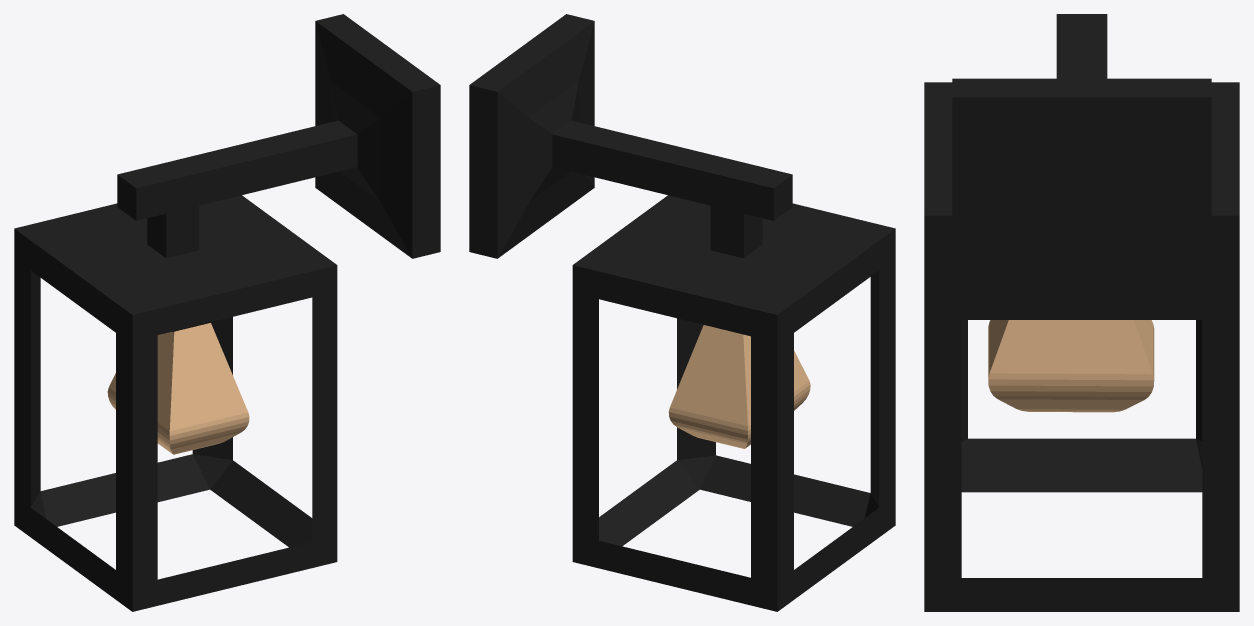
The model's file is lights 2.fbx.
3 views of the same model, side by side, from view 1: azimuth 30°, elevation 25°; view 2: azimuth 150°, elevation 25°; view 3: azimuth 270°, elevation 25° (orthographic). The views are drawn at different scales.
Parts seen in each view (by area): view 1: lights; view 2: lights; view 3: lights.
Part boxes in pixels (x1,y1,x2,y2): lights: [14, 14, 440, 611]; lights: [469, 14, 895, 611]; lights: [924, 14, 1239, 611].
Size of the model in its own units: 311 by 412 by 200.
